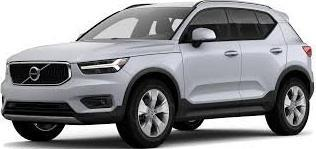SUV: (2, 2, 315, 148)
